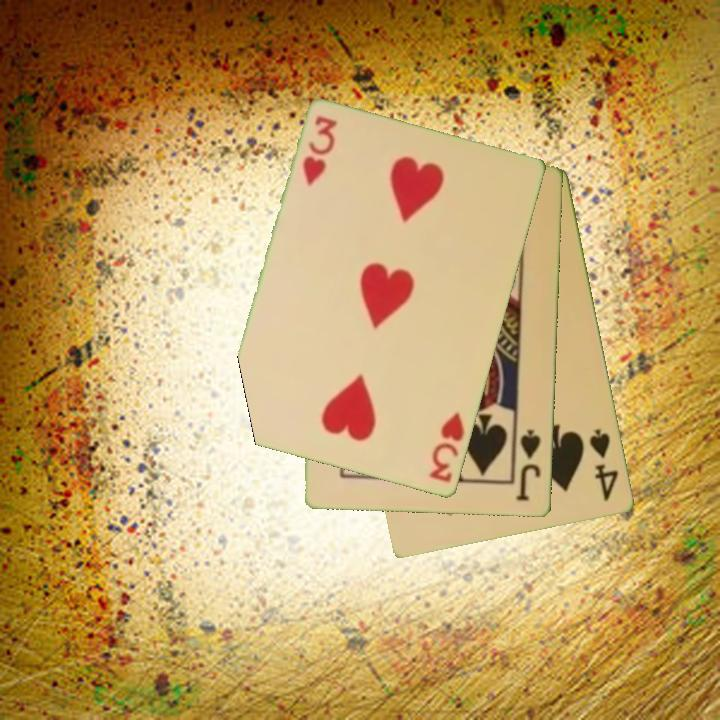3h: (426, 409, 469, 486), (299, 112, 340, 190)
4s: (586, 425, 622, 504)
Js: (513, 426, 544, 504)
